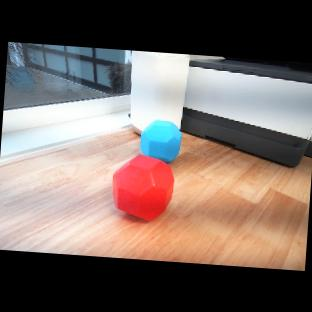V5_BLUE: (138, 116, 183, 160)
V5_RED: (111, 154, 175, 222)
